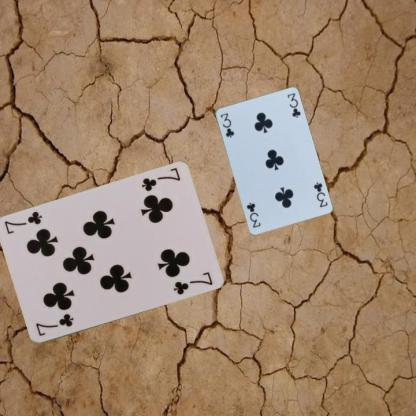3c: (218, 110, 236, 139), (311, 180, 329, 209)
7c: (139, 165, 182, 193), (32, 310, 74, 338)
